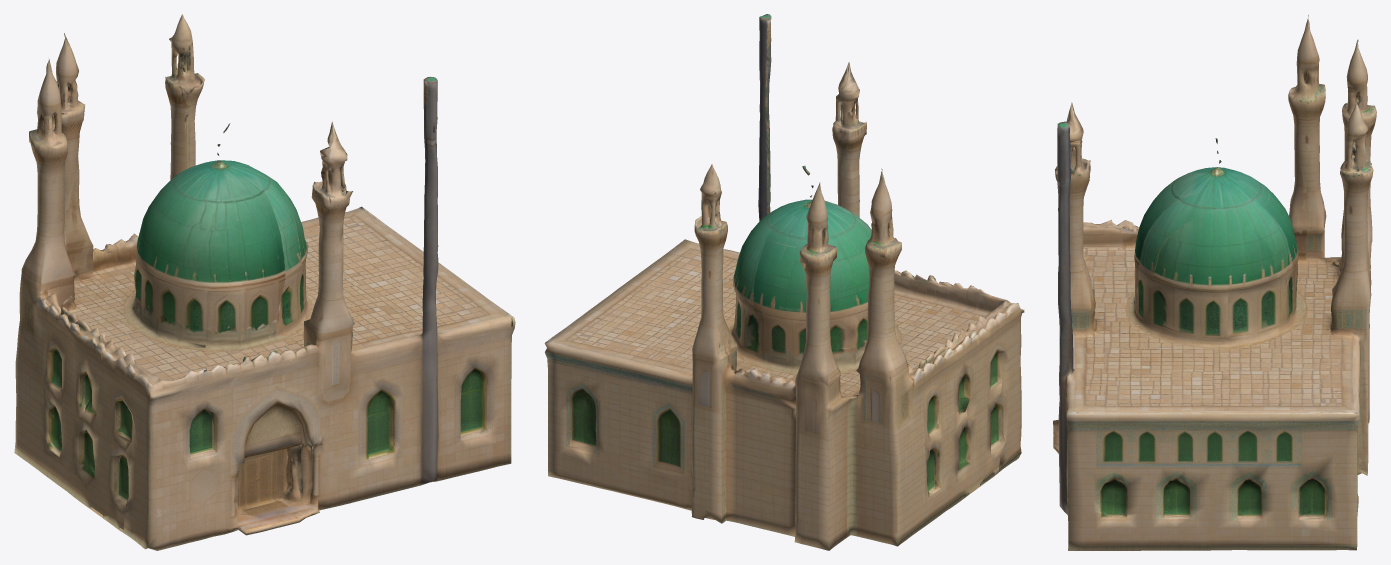
Rendered from Mosque_Serenity_0706232929_texture.fbx.
The picture shows the model from 3 angles, left to right: view 1: azimuth 30°, elevation 25°; view 2: azimuth 150°, elevation 25°; view 3: azimuth 270°, elevation 25°; orthographic projection. The views are drawn at different scales.
Visible parts, largest first — view 1: Mesh1; view 2: Mesh1; view 3: Mesh1.
Boxes of the visible parts, x1,y1,x2,y2 form: Mesh1: (14,14,515,550); Mesh1: (544,14,1024,550); Mesh1: (1053,15,1376,550).
Bounding box in the file's own units: 189 × 200 × 151.
Materials: 1 (1 with a texture image).
